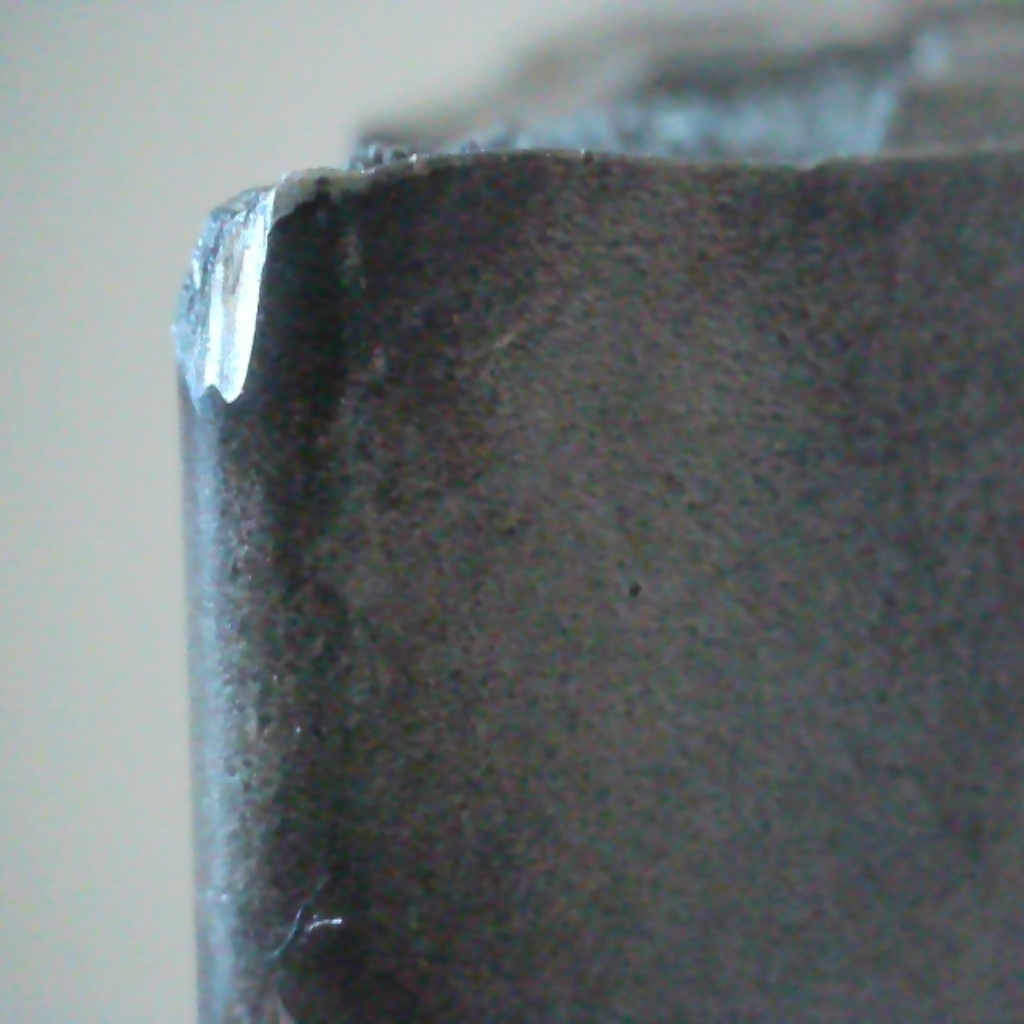flank_wear: (171, 176, 287, 405)
